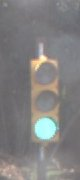Green: (21, 58, 64, 159)
